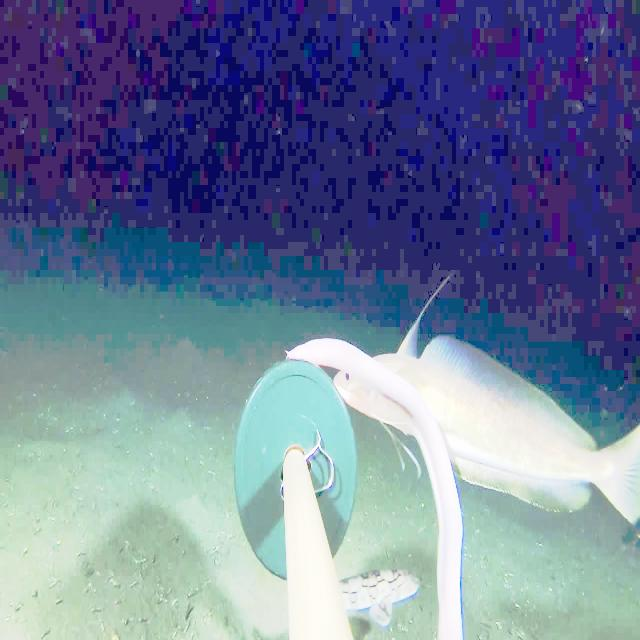eel: (281, 327, 476, 639)
fish: (329, 325, 640, 558), (337, 551, 432, 625)
pole: (238, 394, 348, 557)
